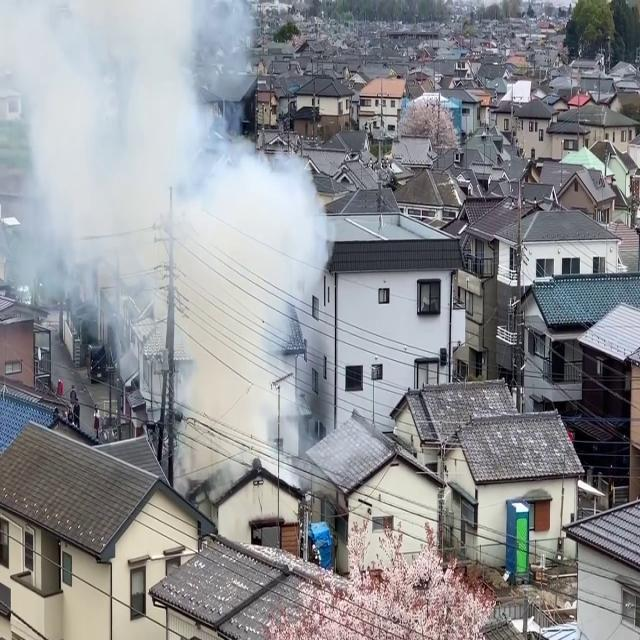Smoke: (1, 0, 343, 489)
